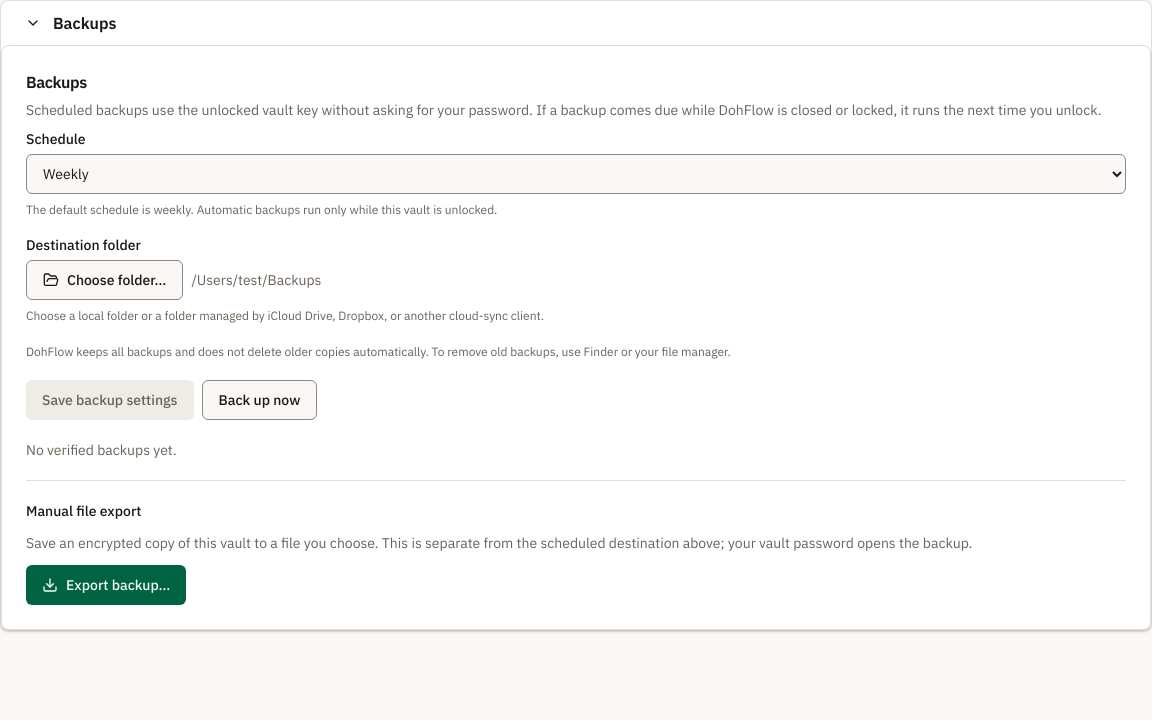
Test case: Backups › hands focus to the Save in the slot when its error moves it, and to the schedule after it saves
Click the button "Choose folder…".
click(105, 280)  # box left=26, top=260, right=183, bottom=300
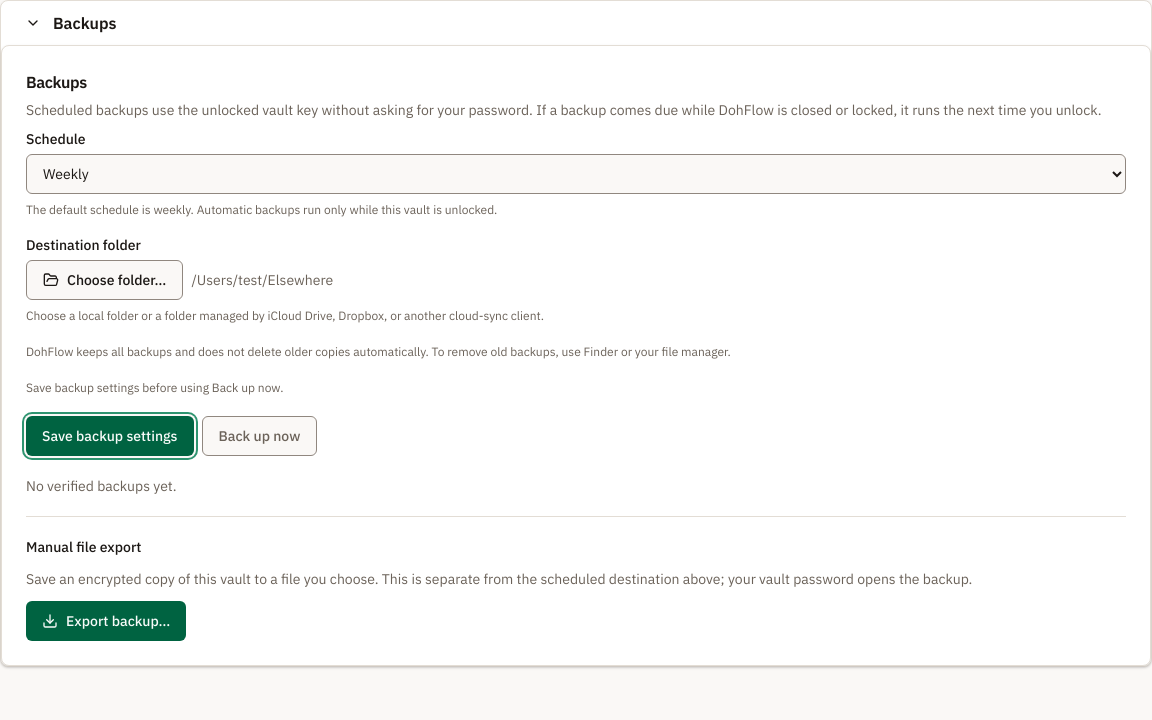
Expected: the text "/Users/test/Elsewhere" is shown, left=191, top=270, right=333, bottom=290
Click the button "Save backup settings".
click(110, 436)  # box left=26, top=416, right=194, bottom=456
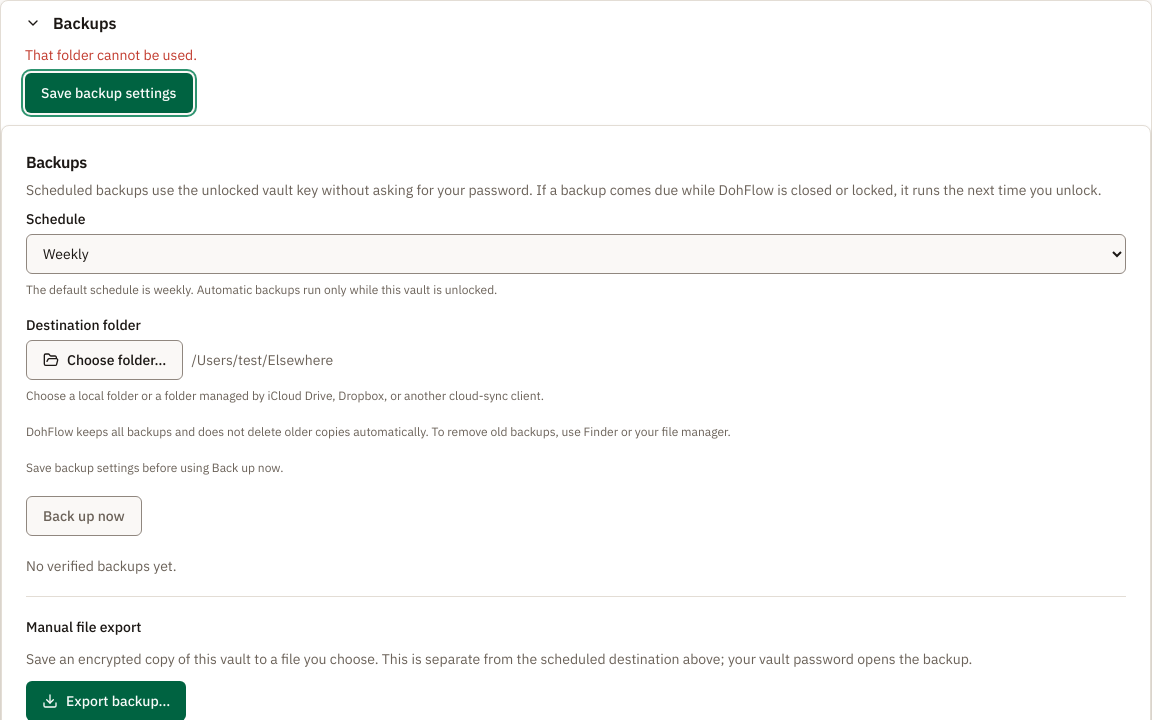
Expected: the text "That folder cannot be used." is shown, left=25, top=46, right=197, bottom=64
Click the button "Save backup settings".
click(109, 93)  # box left=25, top=73, right=192, bottom=113
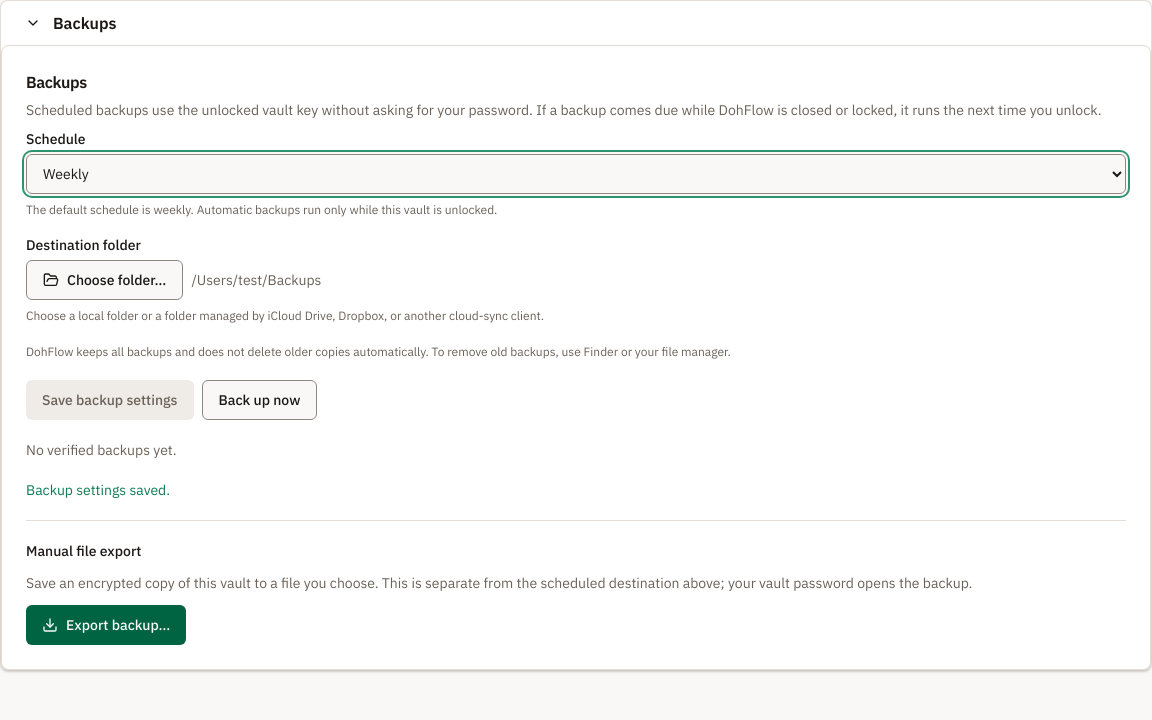
Expected: the text "That folder cannot be used." is gone
